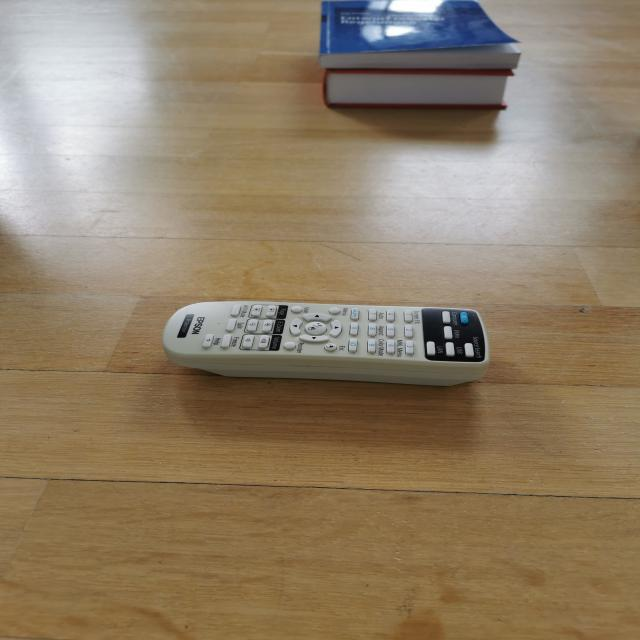remote: (160, 296, 490, 388)
